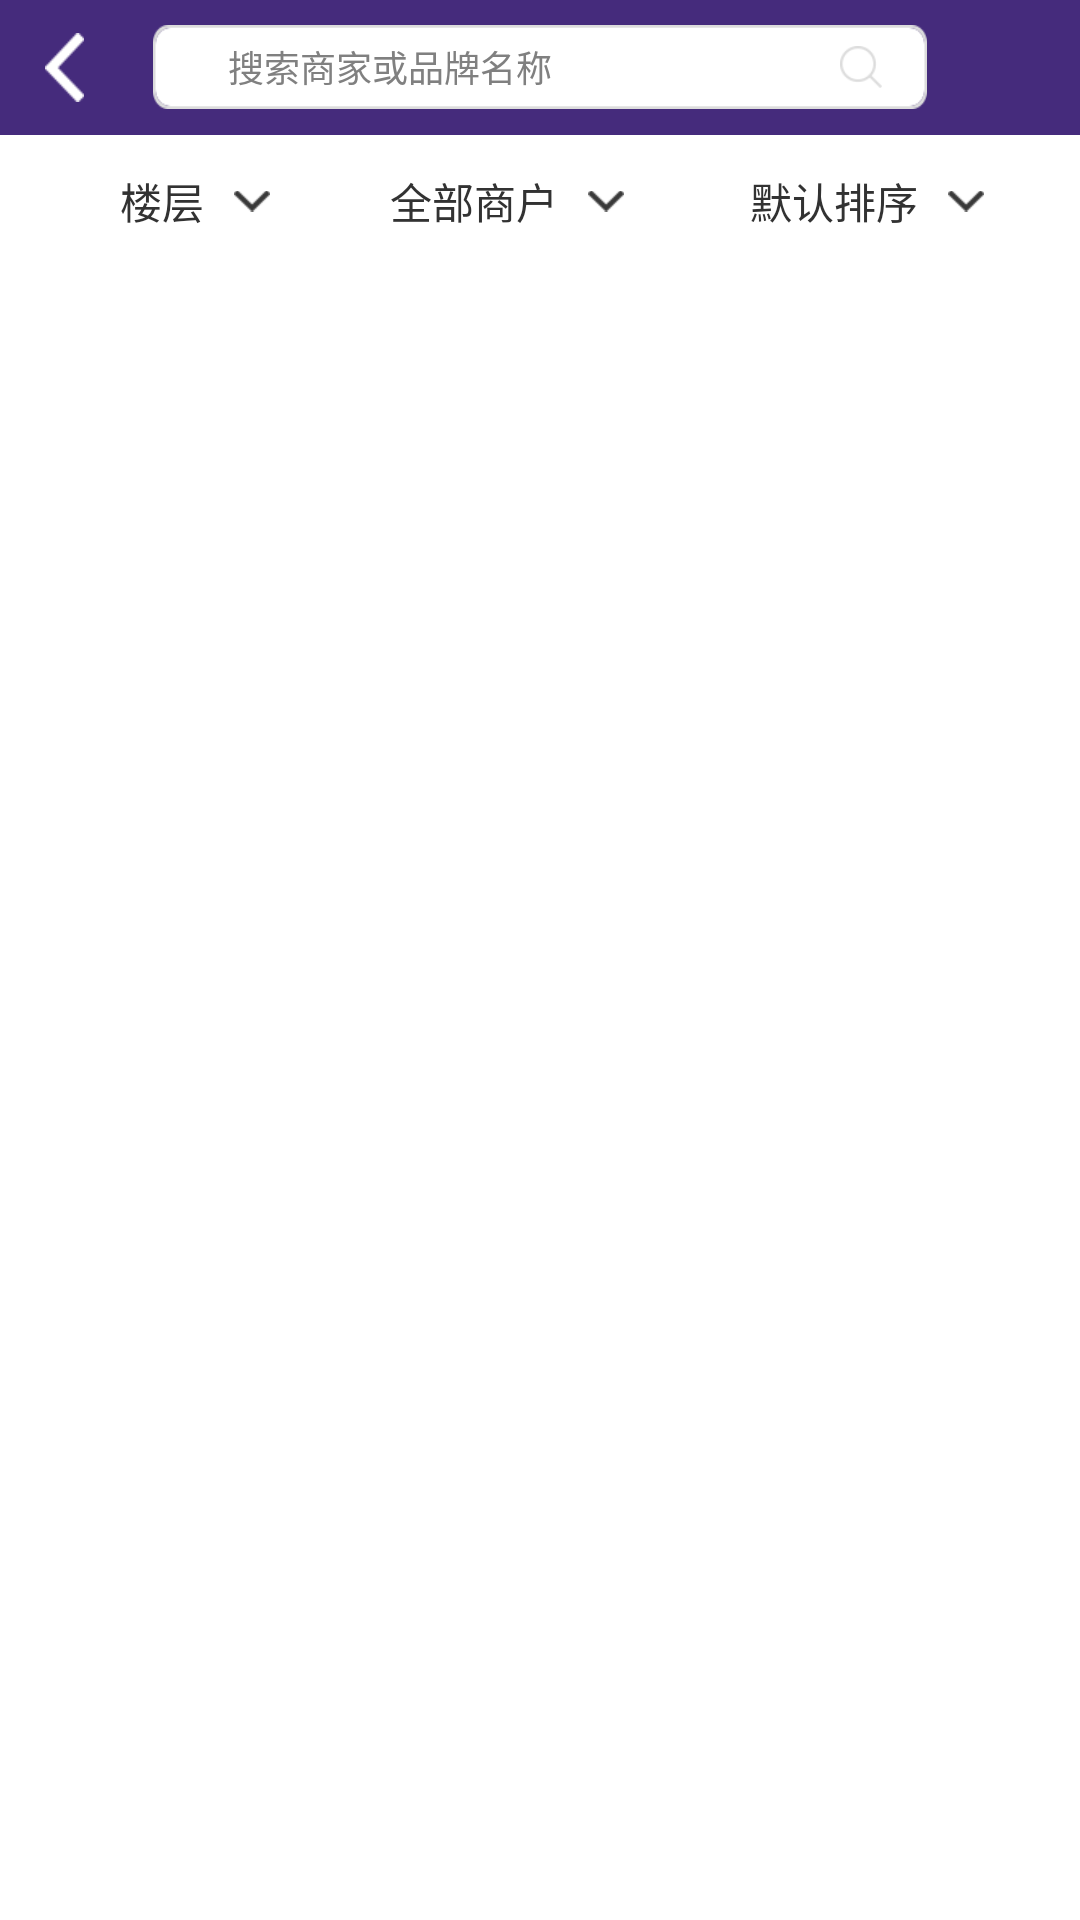

Locate icon controls on the screen. Image size 1080*1920, boxes as (x1, y1, x2, y2).
arraw down: (234, 191, 270, 212), (588, 191, 624, 212), (948, 191, 984, 212)
